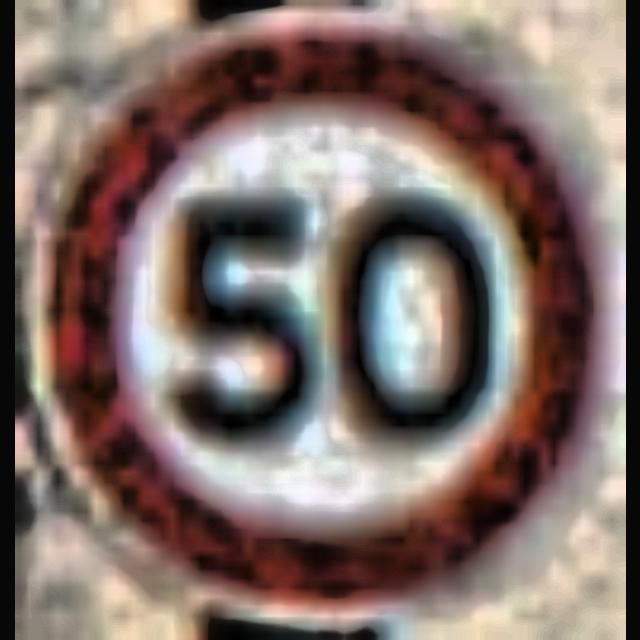speed_50: (14, 0, 626, 640)
